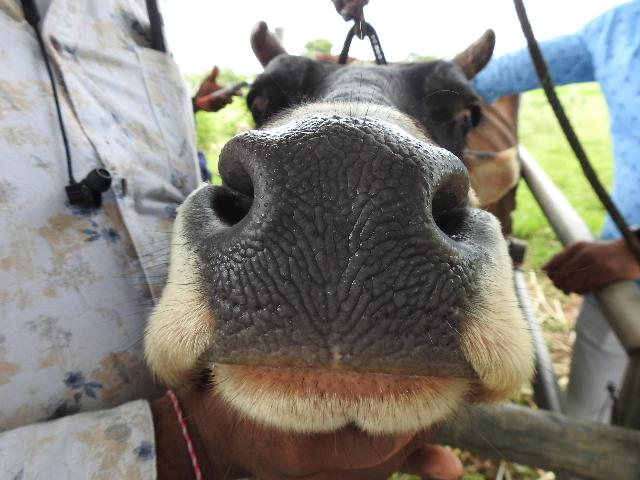Muzzle: (232, 136, 444, 356)
